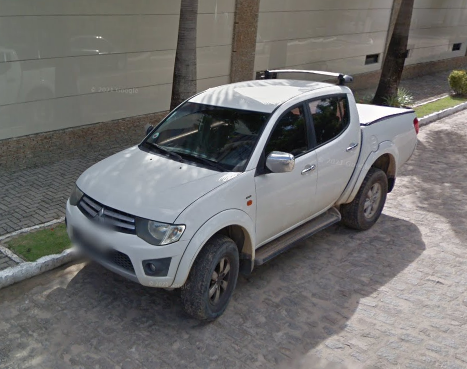car: (62, 65, 423, 329)
